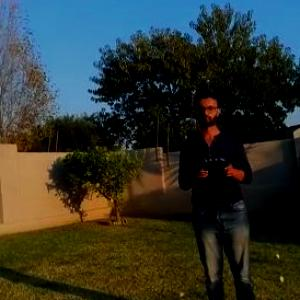follow: (172, 82, 260, 299)
